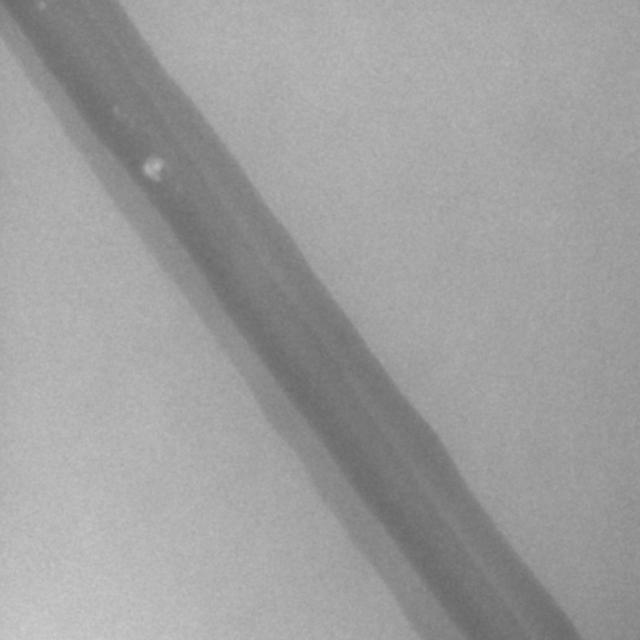slag inclusion: (142, 157, 161, 179)
